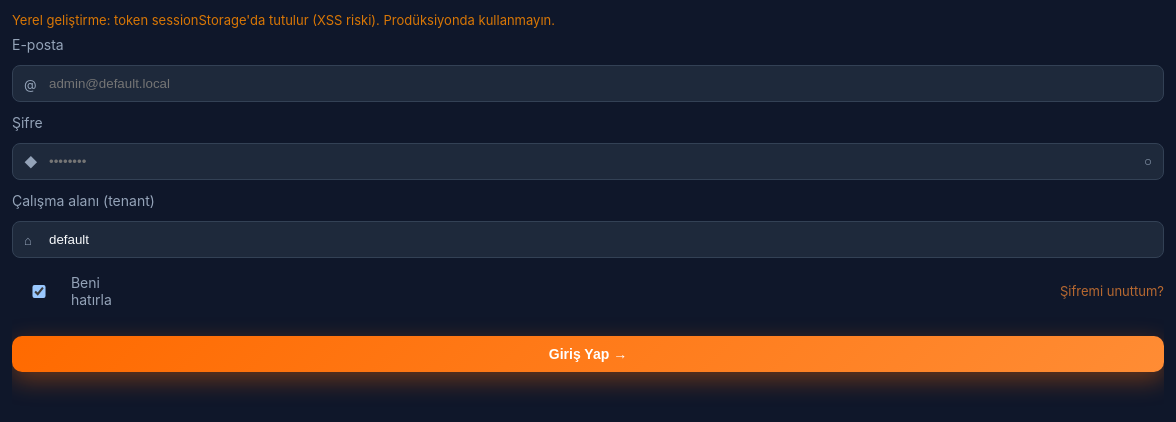
Test: LoginForm › shows auth error state
Type "bad@example.com" into the field with test id "login-email" at (588, 84), box x1=12 y1=65 x2=1164 y2=102
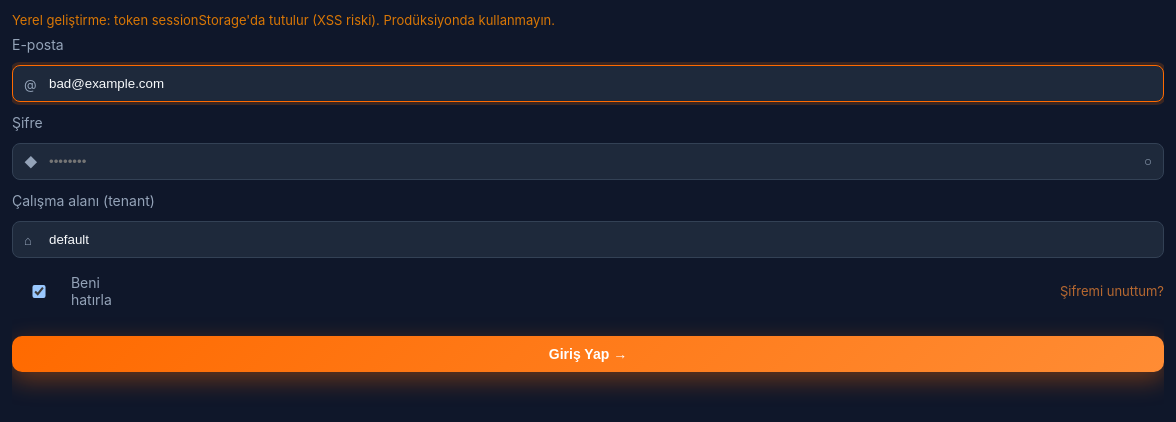
Type "wrong" into the password field with test id "login-password" at (588, 162), box x1=12 y1=143 x2=1164 y2=180
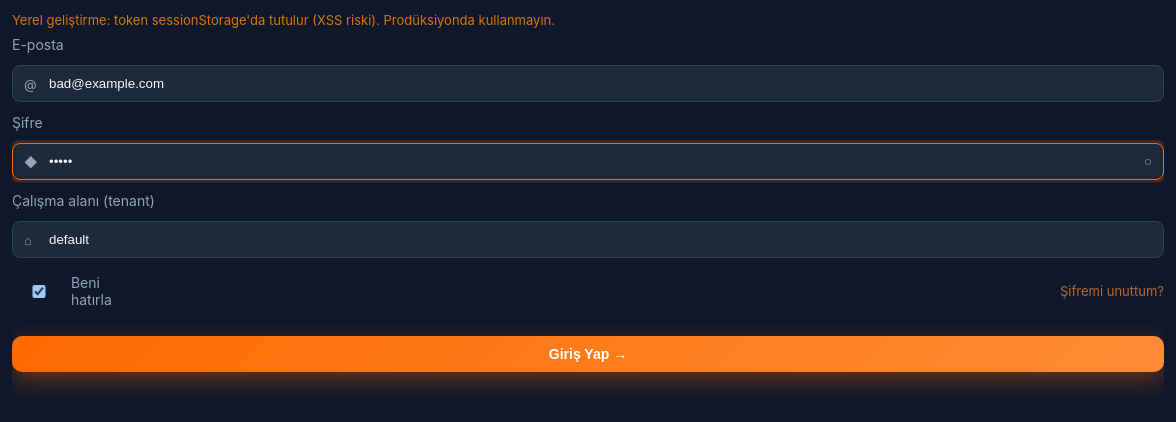
Click the button with test id "login-submit" at (588, 354), box x1=12 y1=336 x2=1164 y2=372
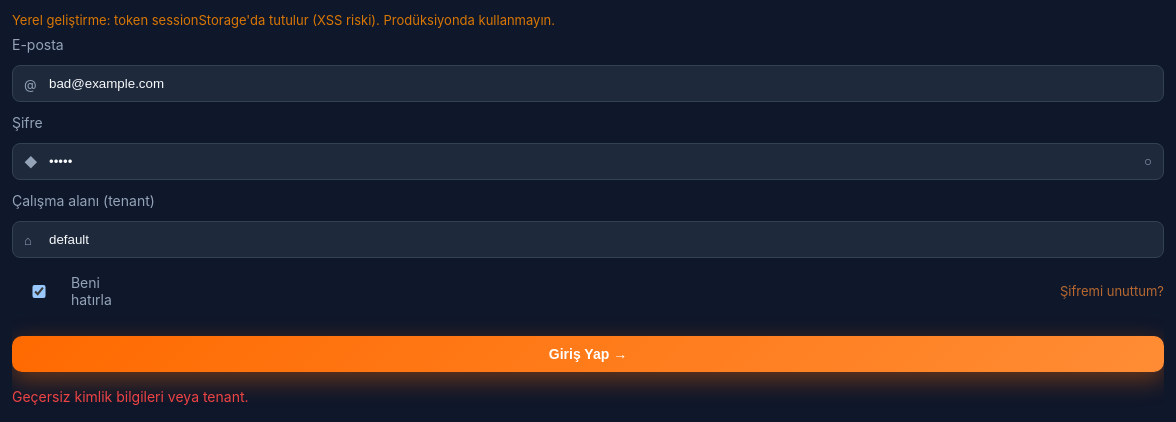
Result: the message with test id "login-auth-error" reads "Geçersiz kimlik bilgileri veya tenant." at x1=12 y1=388 x2=249 y2=405
